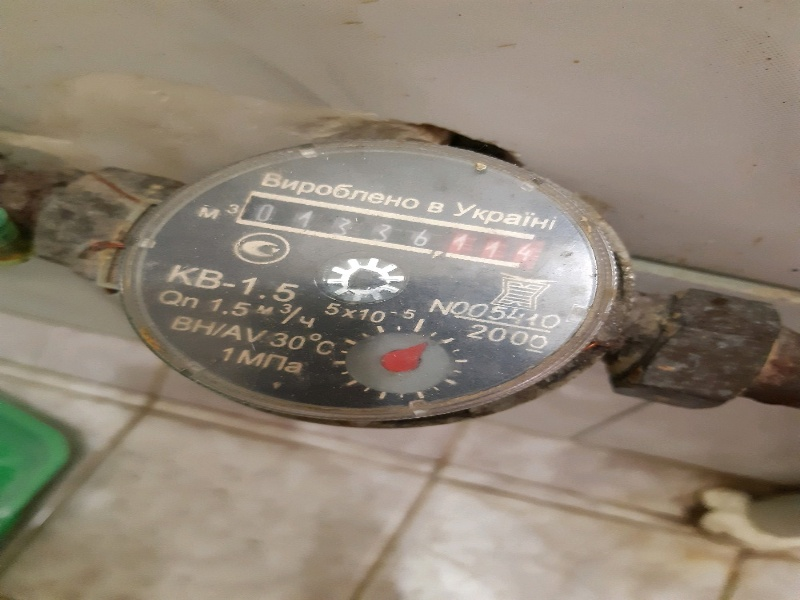meter: (249, 195, 532, 272)
